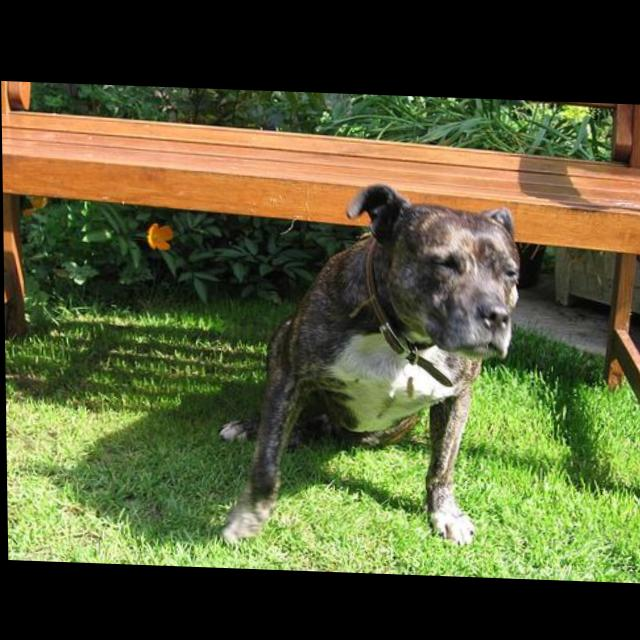amstaff: (213, 174, 523, 551)
